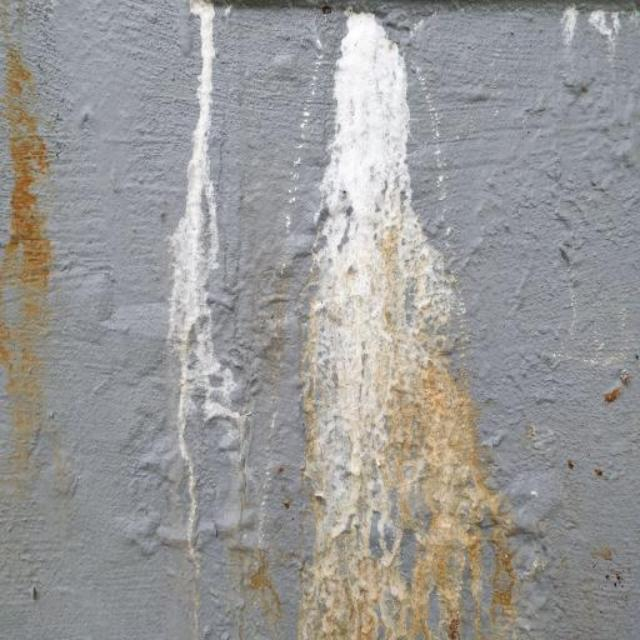D01: (302, 12, 485, 639), (166, 2, 233, 639)
